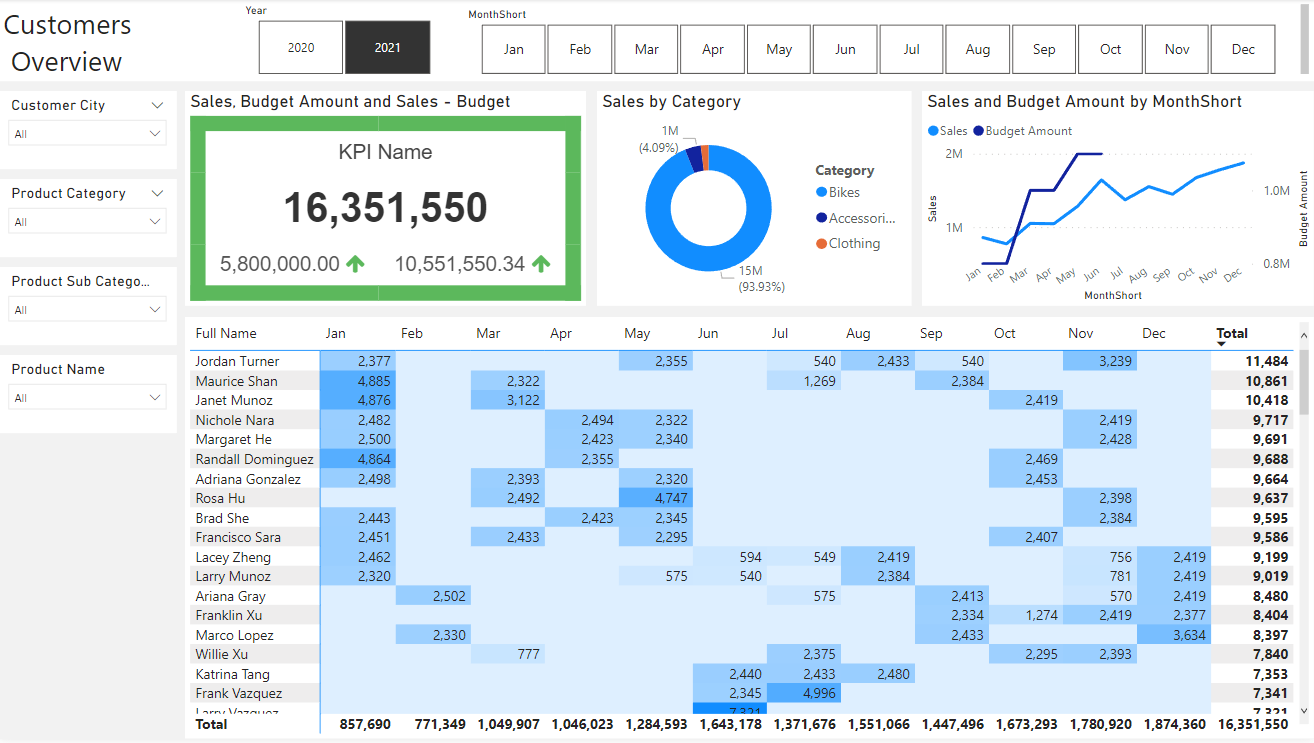

What the dashboard file says about the page in this screenshot:
{"tool":"powerbi","page":{"name":"Customers Overview","canvas":[1280,720],"ordinal":1},"visuals":[{"type":"textbox","box":[0,0,1280,79.8],"z":0},{"type":"slicer","fields":{"Values":["DIM_Customer.Customer City"]},"box":[0,89.5,174.1,75.9],"z":1000},{"type":"slicer","fields":{"Values":["DIM_Product.ProductSubcategoryKey"]},"box":[0,260.7,174.1,75.9],"z":2000},{"type":"slicer","fields":{"Values":["DIM_Product.ProductCategoryKey"]},"box":[0,175.1,174.1,75.9],"z":3000},{"type":"slicer","fields":{"Values":["DIM_Product.Product Name"]},"box":[0,346.3,174.1,75.9],"z":4000},{"type":"slicer","fields":{"Values":["DIM_Calendar.Year"]},"box":[227.6,0,216.9,79.8],"z":5000},{"type":"slicer","fields":{"Values":["DIM_Calendar.MonthShort"]},"box":[444.5,3.9,821.9,75.9],"z":7000},{"type":"donutChart","fields":{"Category":["DIM_CategoryKey.EnglishProductCategoryName"],"Y":["Key Measures.Sales"]},"box":[582.6,89.5,306.4,209.1],"z":8000},{"type":"lineChart","fields":{"Y2":["Key Measures.Budget Amount"],"Y":["Key Measures.Sales"],"Category":["DIM_Calendar.MonthShort"]},"box":[898.7,89.5,381.3,209.1],"z":9000},{"type":"pivotTable","fields":{"Rows":["DIM_Customer.Full Name"],"Values":["Key Measures.Sales"],"Columns":["DIM_Calendar.MonthShort"]},"box":[181.9,309.3,1098.1,410.5],"z":10000},{"type":"BBED0A4D4D8D44CE93CF2DAFADEE466C","fields":{"actual":["Key Measures.Sales"],"target2":["Key Measures.Sales - Budget"],"target1":["Key Measures.Budget Amount"]},"box":[181.9,89.5,390,209.1],"z":10001}]}

Visuals, with their boxes in screenshot pixels (x1, y1, x2, y2), scaled from the page's 1280x720 canvas onto the 1314x743 screenshot:
textbox: select_region(0, 0, 1313, 82)
slicer - DIM_Customer.Customer City: select_region(0, 92, 179, 171)
slicer - DIM_Product.ProductSubcategoryKey: select_region(0, 269, 179, 347)
slicer - DIM_Product.ProductCategoryKey: select_region(0, 181, 179, 259)
slicer - DIM_Product.Product Name: select_region(0, 357, 179, 436)
slicer - DIM_Calendar.Year: select_region(234, 0, 456, 82)
slicer - DIM_Calendar.MonthShort: select_region(456, 4, 1300, 82)
donutChart - DIM_CategoryKey.EnglishProductCategoryName x Key Measures.Sales: select_region(598, 92, 913, 308)
lineChart - Key Measures.Budget Amount x Key Measures.Sales: select_region(923, 92, 1313, 308)
pivotTable - DIM_Customer.Full Name x Key Measures.Sales: select_region(187, 319, 1313, 742)
BBED0A4D4D8D44CE93CF2DAFADEE466C - Key Measures.Sales x Key Measures.Sales - Budget: select_region(187, 92, 587, 308)
